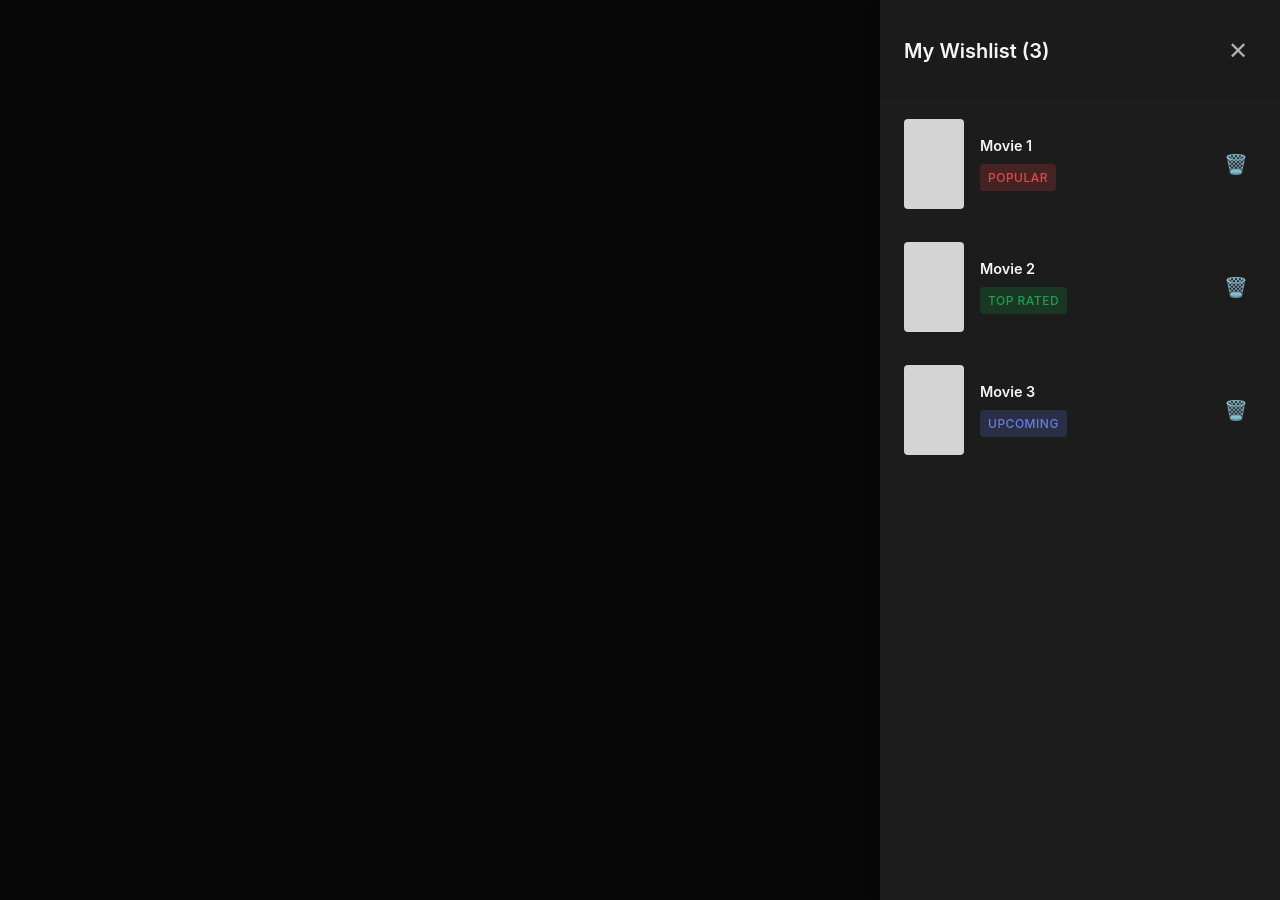
it: WishlistDrawer Integration Tests › should remove item from wishlist when remove button is clicked
This screenshot has width=1280, height=900.
Expected: the heading "Movie 1" is shown, [980,137,1032,154]
Expected: the heading "Movie 2" is shown, [980,260,1035,277]
Click the button named "remove" at (1236, 287), box [1216,264,1256,311]
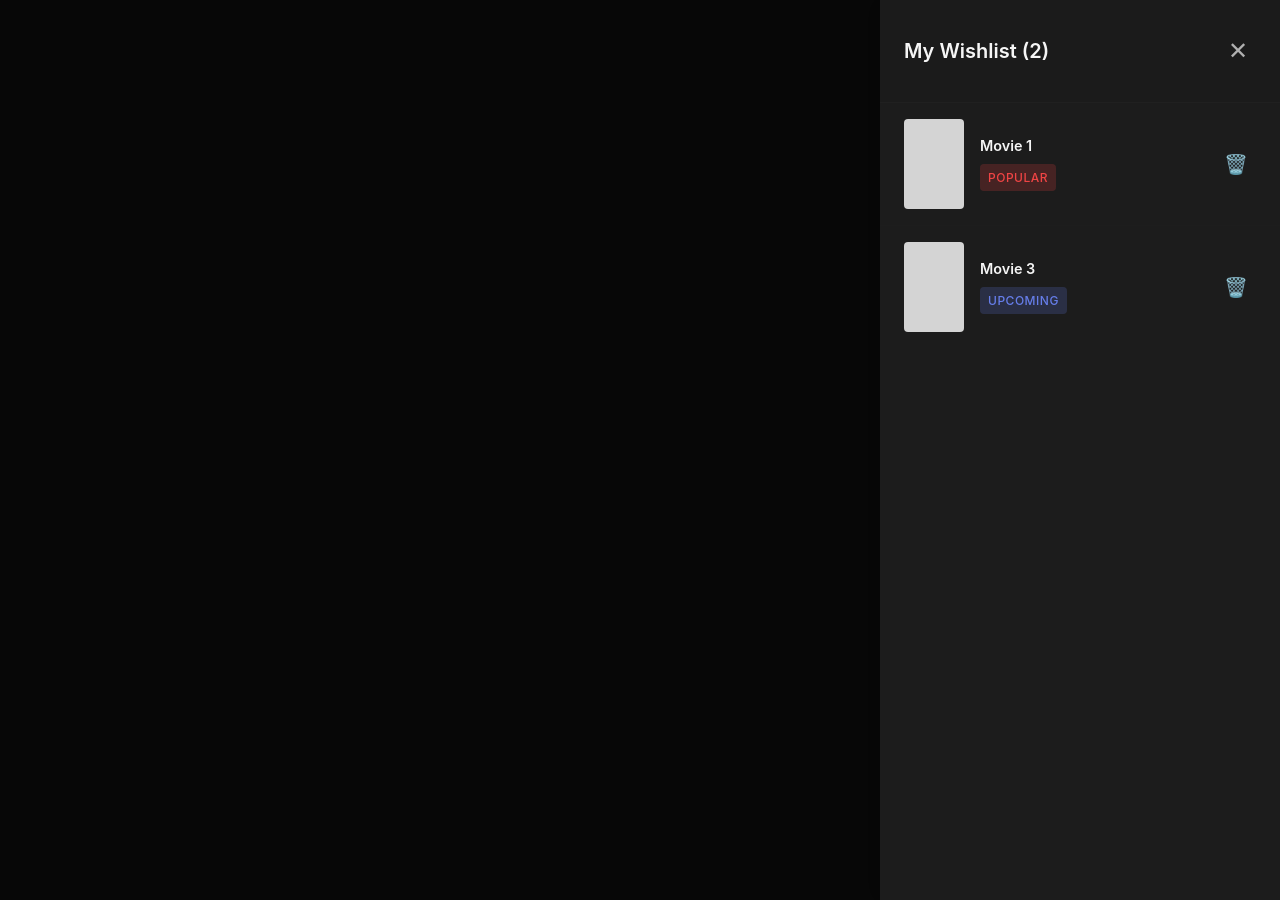
Expected: the heading "Movie 1" is shown, [980,137,1032,154]
Expected: the heading "Movie 2" is gone
